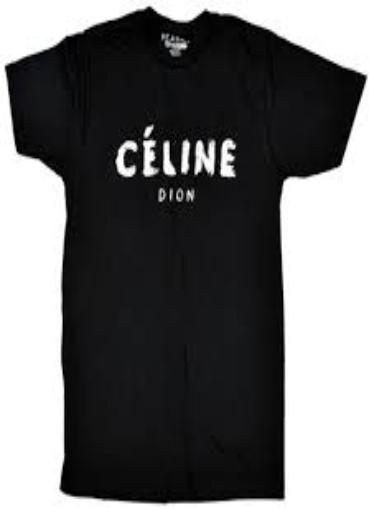CELINE: (116, 115, 240, 181)
